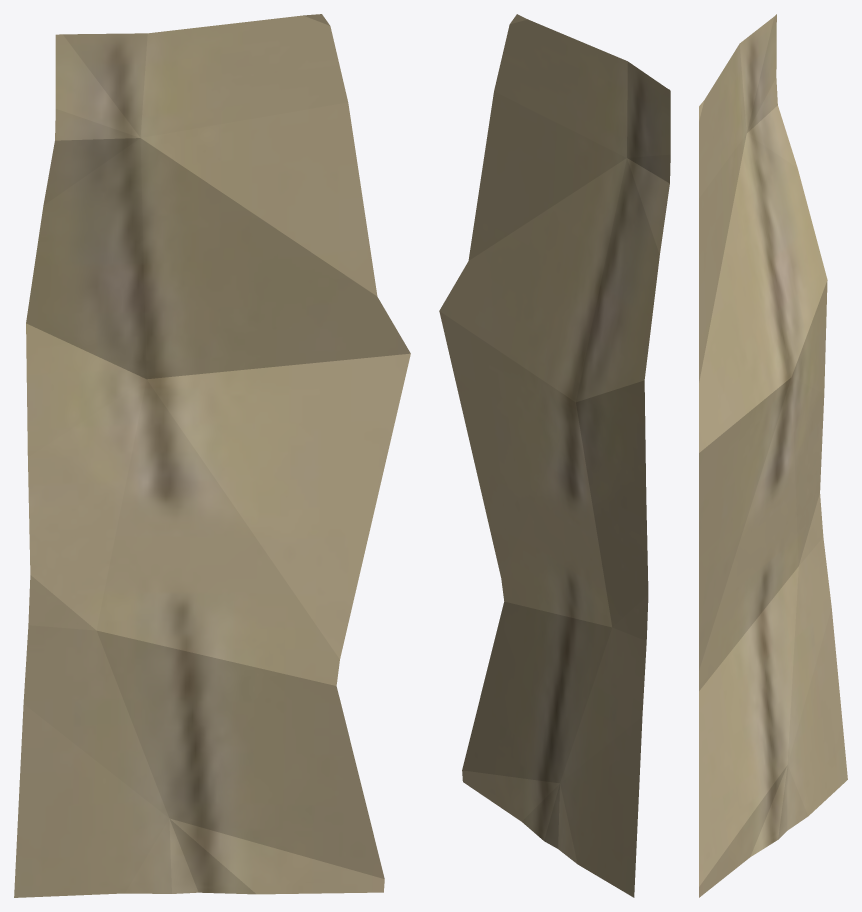
The picture shows the model from 3 angles, left to right: view 1: azimuth 30°, elevation 25°; view 2: azimuth 150°, elevation 25°; view 3: azimuth 270°, elevation 25°; orthographic projection. The views are drawn at different scales.
Bounding box in the file's own units: 0.3039 × 0.8374 × 0.1476.
Materials: 1 (1 with a texture image).
